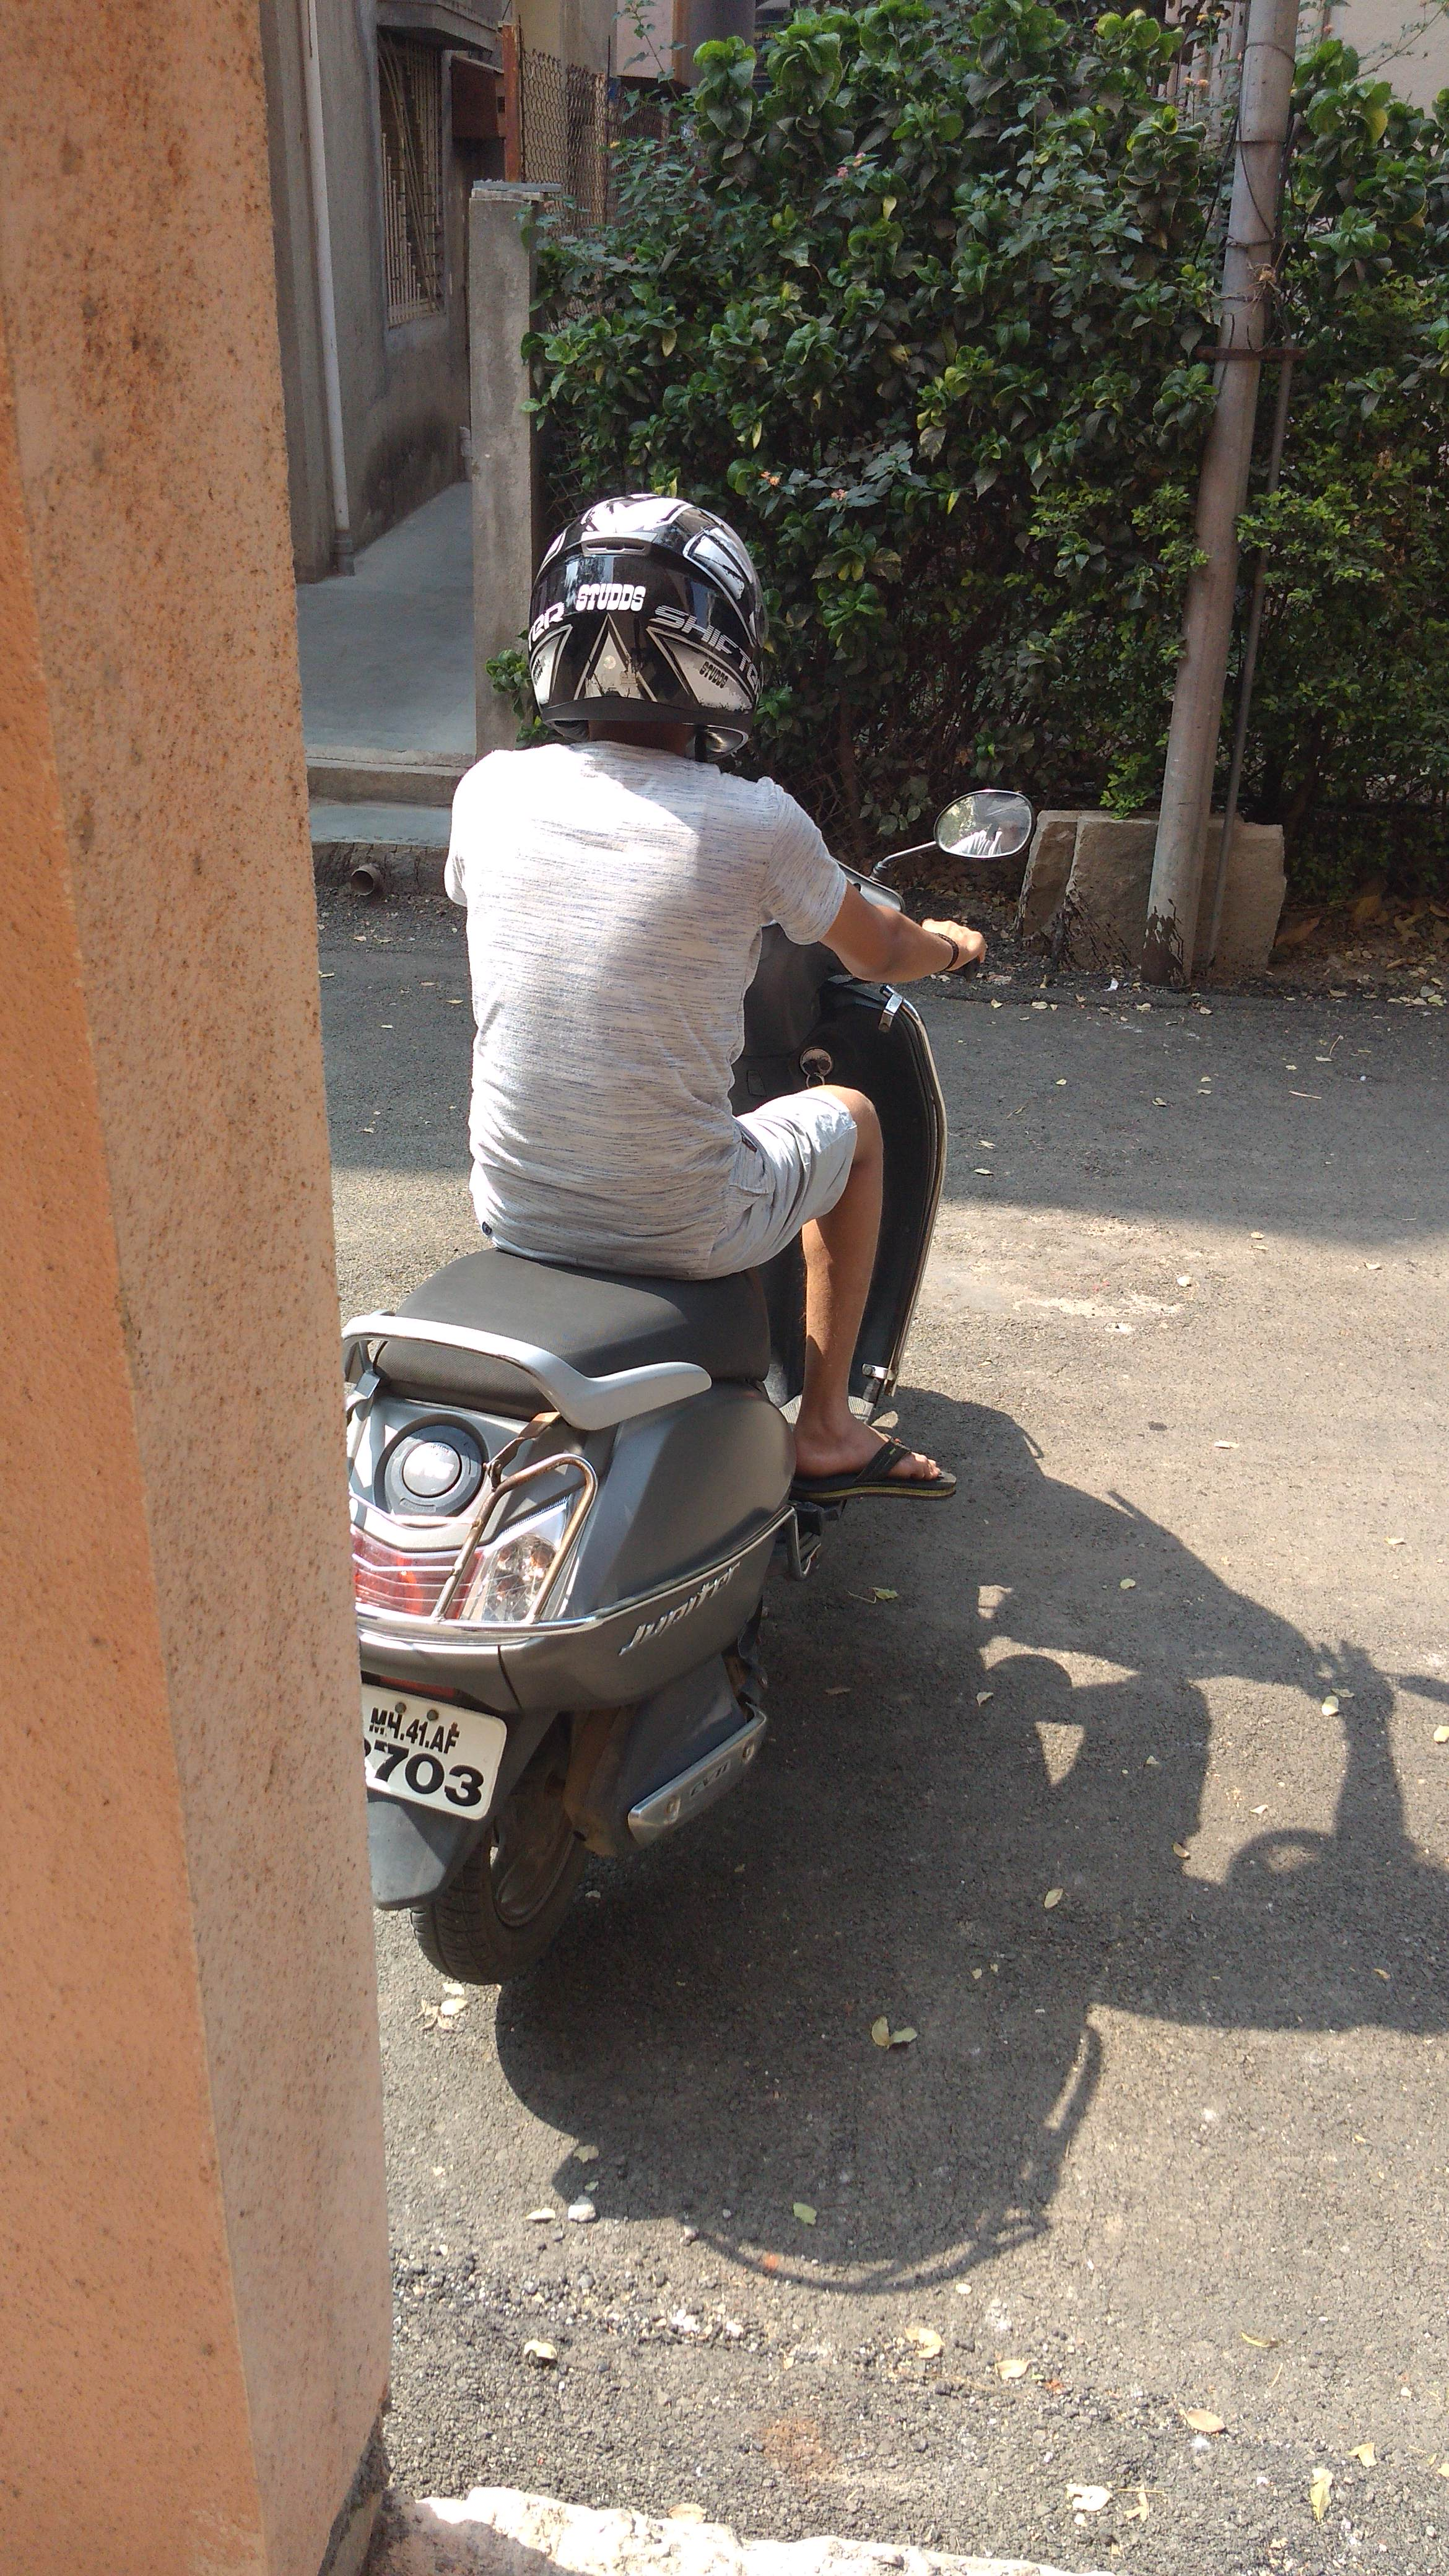helmet: (435, 504, 924, 1322)
